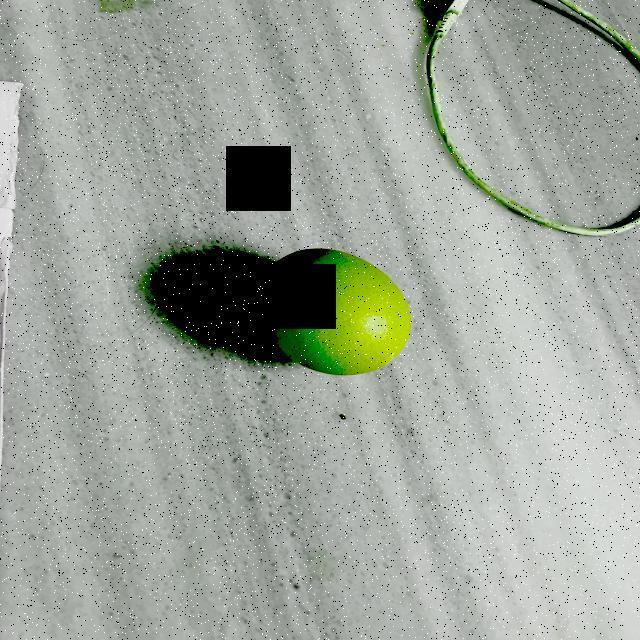egg: (246, 248, 416, 382)
